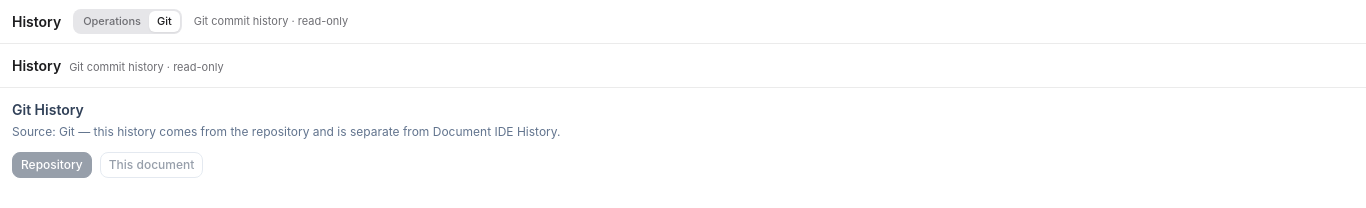
it: HistoryScreen (UI-03 screen 10) › renders a typed unavailable state instead of an empty fake list when the read fails
Click the radio button labelled "Operations".
click(112, 22)  # box [75,11,149,32]
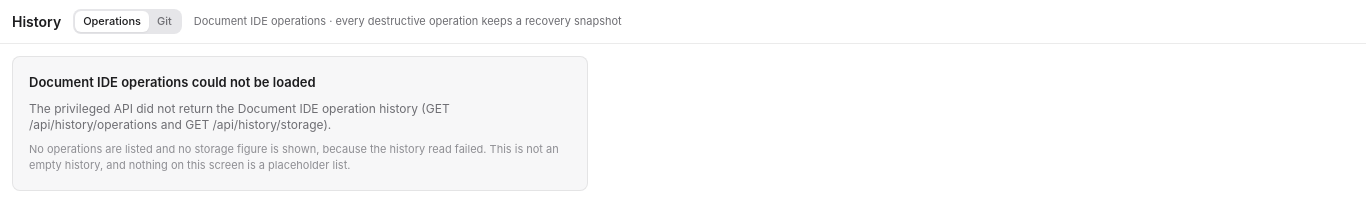
Now the message with test id "history-operations-unavailable" shows "could not be loaded", box [29,74,316,90]
Now the text with test id "history-operations-unavailable-reason" shows "did not return the Document IDE operation history", box [29,100,450,132]
